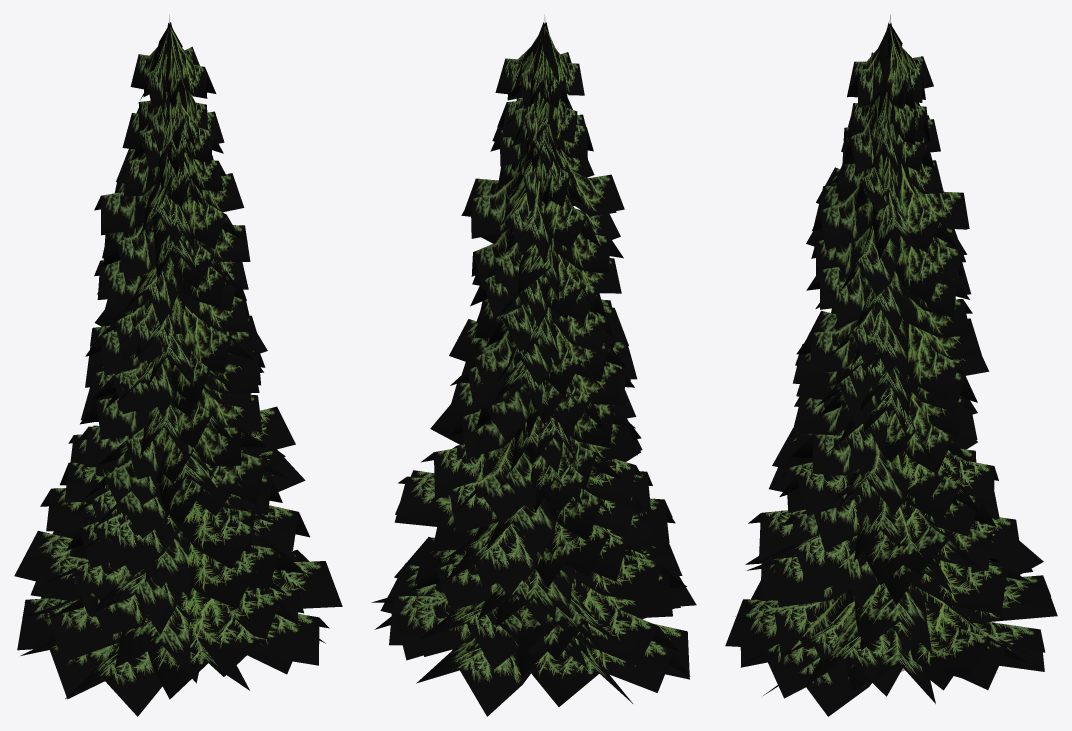
The model's file is Pine2kFaces2kVerts.fbx.
3 renders of one model, left to right at view 1: azimuth 30°, elevation 25°; view 2: azimuth 150°, elevation 25°; view 3: azimuth 270°, elevation 25°, orthographic. The views are drawn at different scales.
Visible parts, largest first — view 1: PineTreeBranch_single_color; view 2: PineTreeBranch_single_color; view 3: PineTreeBranch_single_color.
Boxes of the visible parts, x1,y1,x2,y2 form: PineTreeBranch_single_color: (14,22,342,716); PineTreeBranch_single_color: (371,22,696,716); PineTreeBranch_single_color: (725,22,1057,716).
Bounding box in the file's own units: 3.8 × 8.27 × 3.8.
